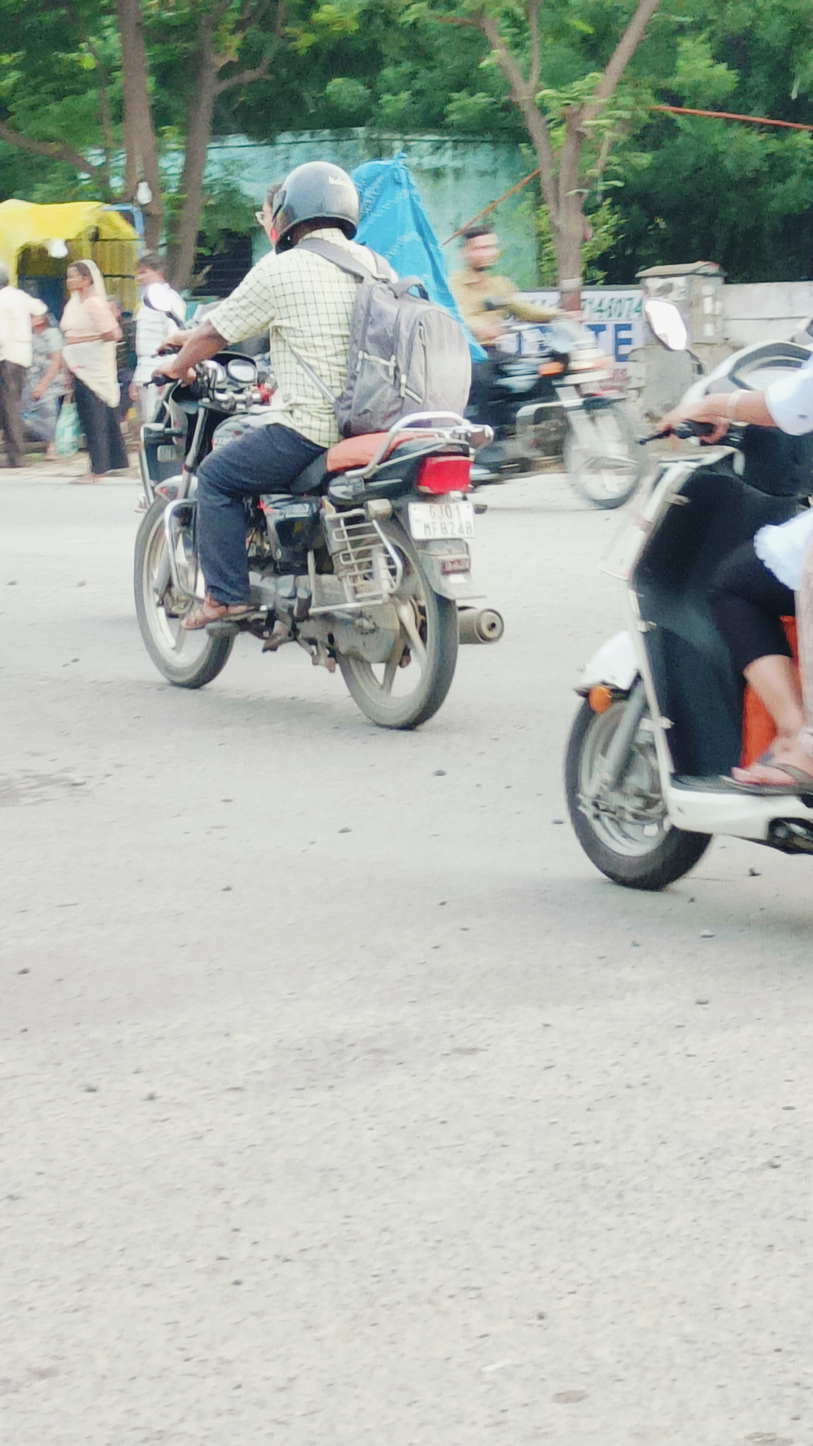BikeWithRider: (110, 132, 534, 753)
Helmet: (245, 138, 371, 276)
